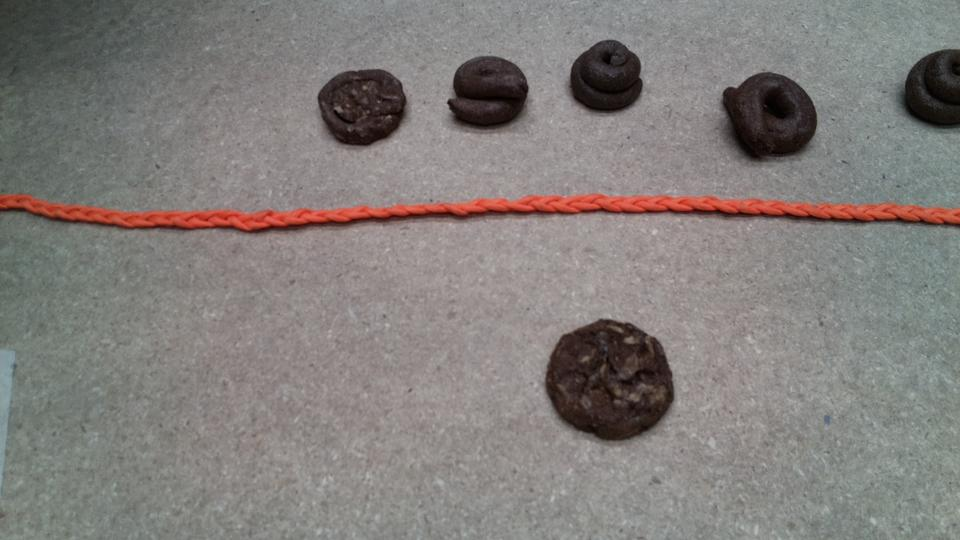poop: (541, 314, 685, 446), (714, 68, 825, 166), (314, 68, 410, 148), (565, 35, 653, 118), (444, 55, 535, 132), (897, 46, 960, 130)
rope: (2, 184, 960, 250)
